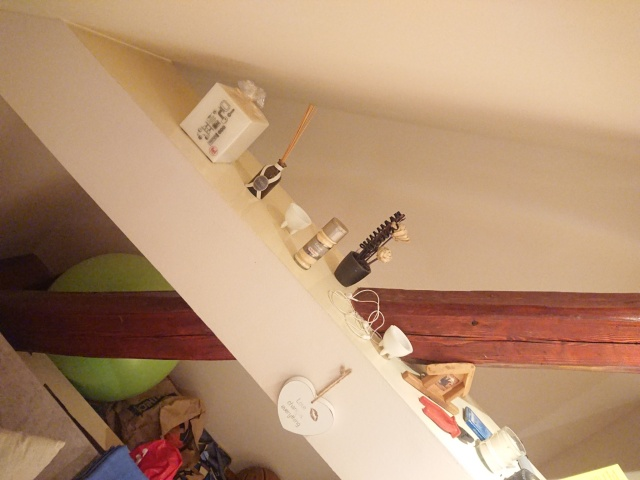Kotanyi Garlic Granules 70g: (291, 216, 351, 272)
